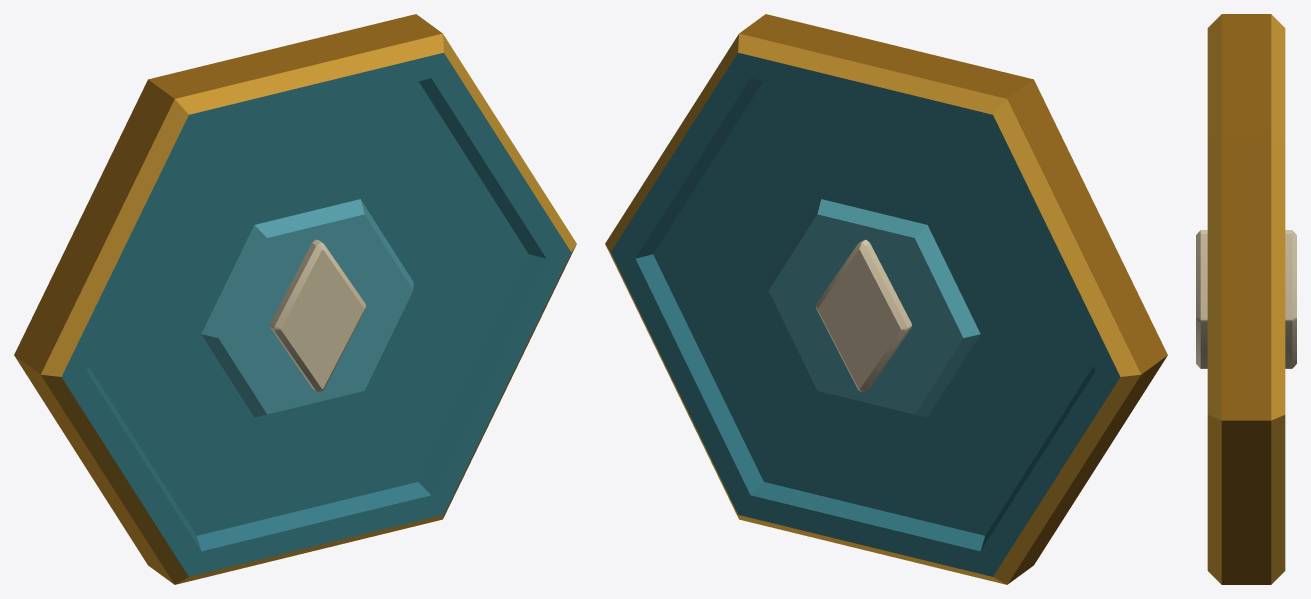
The model's file is Coin_11.glb.
The picture shows the model from 3 angles, left to right: view 1: azimuth 30°, elevation 25°; view 2: azimuth 150°, elevation 25°; view 3: azimuth 270°, elevation 25°; orthographic projection. The views are drawn at different scales.
Visible parts, largest first — view 1: Coin_11; view 2: Coin_11; view 3: Coin_11.
Boxes of the visible parts, x1=… form: Coin_11: x1=14, y1=14, x2=576, y2=584; Coin_11: x1=605, y1=14, x2=1167, y2=584; Coin_11: x1=1196, y1=14, x2=1296, y2=584.
Bounding box in the file's own units: 1.83 × 1.59 × 0.322.
